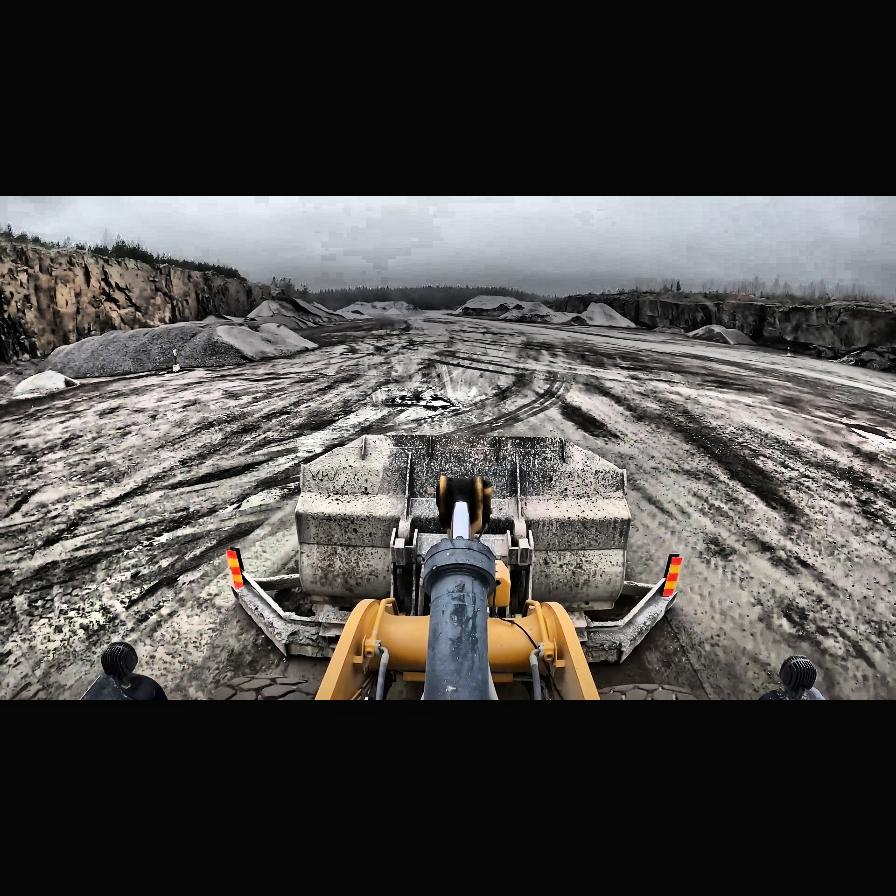anchor: (438, 474, 491, 536)
pile of gravel: (29, 318, 305, 379), (613, 292, 721, 332), (772, 304, 834, 348), (245, 296, 333, 326), (552, 291, 628, 315), (834, 342, 896, 370), (12, 370, 78, 396), (684, 324, 760, 344), (578, 302, 632, 326), (506, 300, 558, 322), (454, 295, 520, 310), (548, 311, 586, 325), (391, 300, 421, 314), (370, 301, 396, 309), (383, 308, 403, 314), (450, 307, 464, 315)
